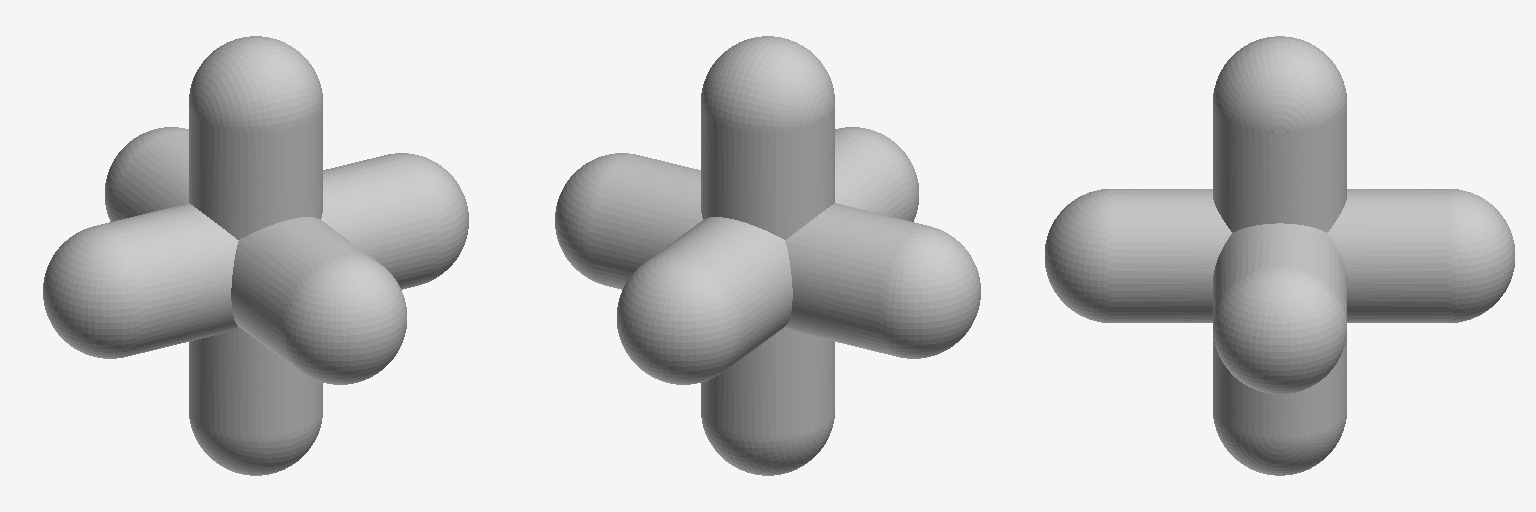
Rendered from jack_colored_white.obj.
3 renders of one model, left to right at view 1: azimuth 30°, elevation 25°; view 2: azimuth 150°, elevation 25°; view 3: azimuth 270°, elevation 25°, orthographic.
Parts seen in each view (by area): view 1: mesh8, mesh2, mesh0, mesh10, mesh4, mesh3, mesh9, mesh1, mesh6, mesh11, mesh5, mesh7; view 2: mesh8, mesh2, mesh7, mesh10, mesh4, mesh3, mesh9, mesh6, mesh1, mesh11, mesh5, mesh0; view 3: mesh1, mesh6, mesh5, mesh8, mesh9, mesh0, mesh7, mesh10, mesh4, mesh11.
Boxes of the visible parts, x1,y1,x2,y2 form: mesh8: [189, 108, 322, 239]; mesh2: [97, 203, 238, 356]; mesh0: [282, 255, 406, 384]; mesh10: [189, 327, 322, 436]; mesh4: [321, 155, 434, 289]; mesh3: [43, 226, 143, 358]; mesh9: [189, 36, 322, 131]; mesh1: [231, 217, 375, 367]; mesh6: [114, 132, 188, 220]; mesh11: [189, 413, 322, 475]; mesh5: [388, 153, 468, 284]; mesh7: [105, 127, 188, 221]; mesh8: [701, 108, 834, 239]; mesh2: [785, 203, 926, 356]; mesh7: [617, 255, 741, 384]; mesh10: [701, 327, 834, 436]; mesh4: [589, 155, 702, 289]; mesh3: [880, 226, 980, 358]; mesh9: [701, 36, 834, 131]; mesh6: [648, 217, 792, 367]; mesh1: [835, 132, 909, 220]; mesh11: [701, 413, 834, 475]; mesh5: [555, 153, 635, 284]; mesh0: [835, 127, 918, 221]; mesh1: [1112, 189, 1231, 322]; mesh6: [1328, 189, 1447, 322]; mesh5: [1213, 266, 1346, 393]; mesh8: [1213, 108, 1346, 232]; mesh9: [1213, 36, 1346, 131]; mesh0: [1045, 189, 1111, 322]; mesh7: [1448, 189, 1514, 322]; mesh10: [1213, 337, 1346, 436]; mesh4: [1213, 223, 1346, 317]; mesh11: [1213, 413, 1346, 475].
Bounding box in the file's own units: 0.1749 × 0.1749 × 0.1749.